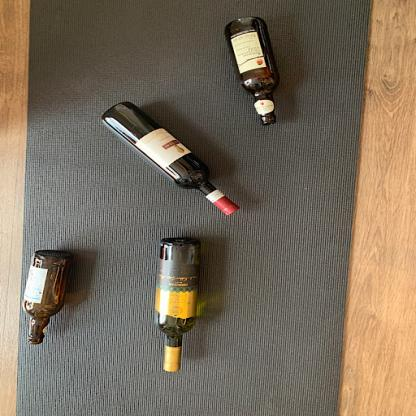trash: (99, 98, 248, 214), (218, 16, 284, 131), (150, 235, 202, 370), (19, 249, 73, 349)
